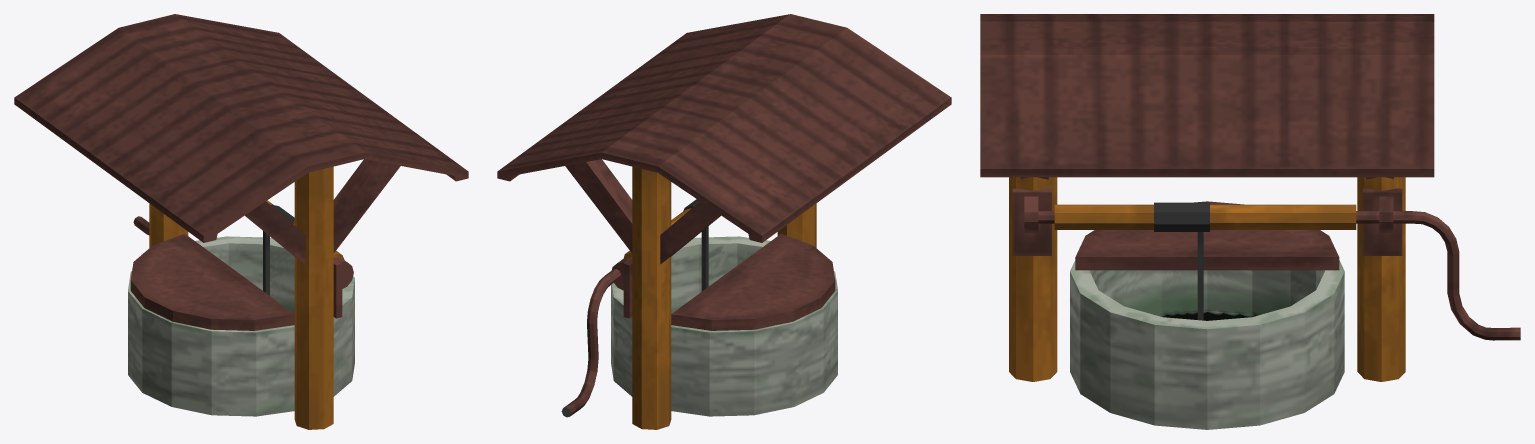
Rendered from Well.fbx.
3 views of the same model, side by side, from view 1: azimuth 30°, elevation 25°; view 2: azimuth 150°, elevation 25°; view 3: azimuth 270°, elevation 25° (orthographic). The views are drawn at different scales.
Visible parts, largest first — view 1: Well; view 2: Well; view 3: Well.
Part boxes in pixels (x1=…): Well: x1=14, y1=14, x2=468, y2=429; Well: x1=497, y1=14, x2=951, y2=429; Well: x1=980, y1=14, x2=1520, y2=429.
Bounding box in the file's own units: 3 × 4.43 × 3.02.
Materials: 1 (1 with a texture image).
